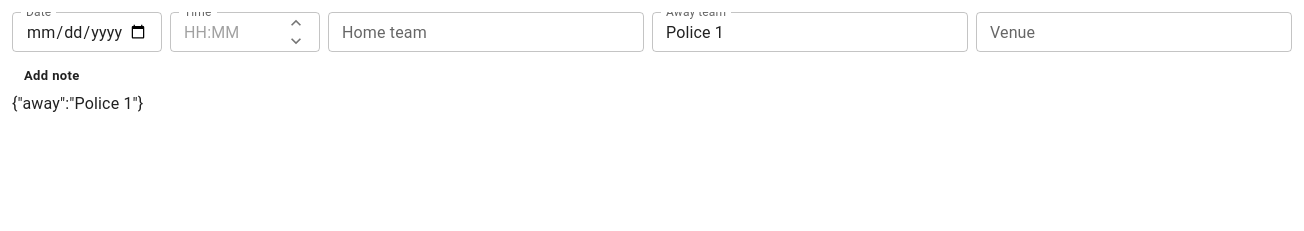
Test case: RowEditFields (spec 125) › lists the given options for a team, opens with the full list on an existing value, and narrows as the user types
Step 1. Focus the dropdown named "Away team, row 7" → (794, 32), box [658,18,929,46]
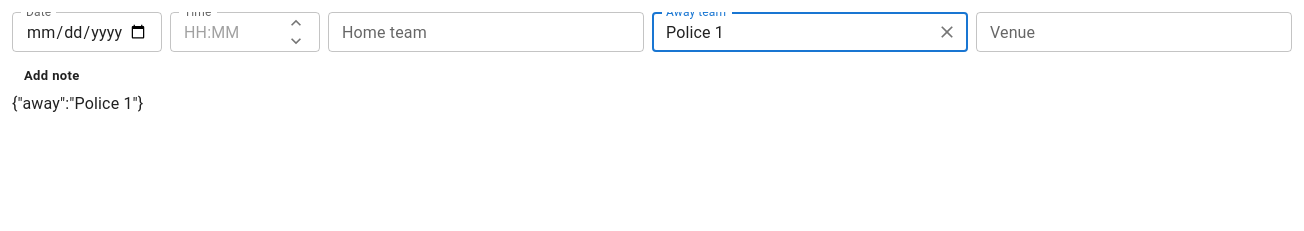
Step 2. Press ArrowDown in the dropdown named "Away team, row 7", box [658,18,929,46]
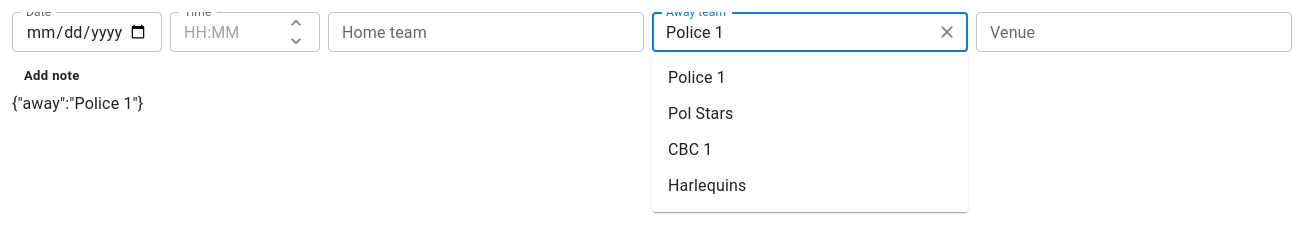
Expected: the options read "Police 1", "Pol Stars", "CBC 1", "Harlequins", in this order, [668,68,726,87]; [668,104,734,123]; [668,140,712,159]; [668,176,746,195]
Step 3. Replace the text in the dropdown named "Away team, row 7" with "pol" → (794, 32), box [658,18,929,46]
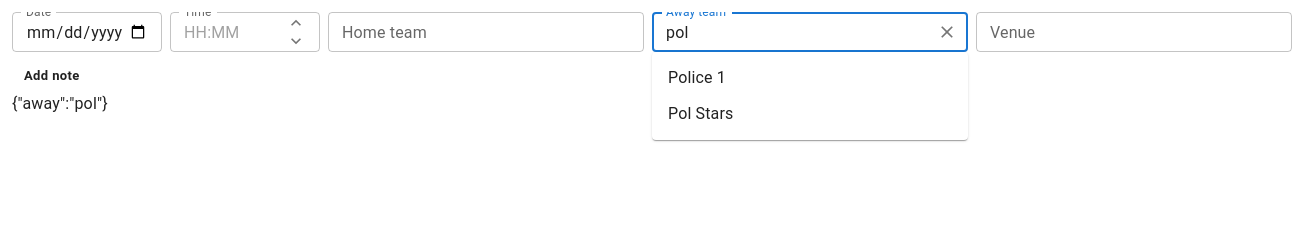
Expected: the options read "Police 1", "Pol Stars", in this order, [668,68,726,87]; [668,104,734,123]
Step 4. Replace the text in the dropdown named "Away team, row 7" with " stars" → (794, 32), box [658,18,929,46]
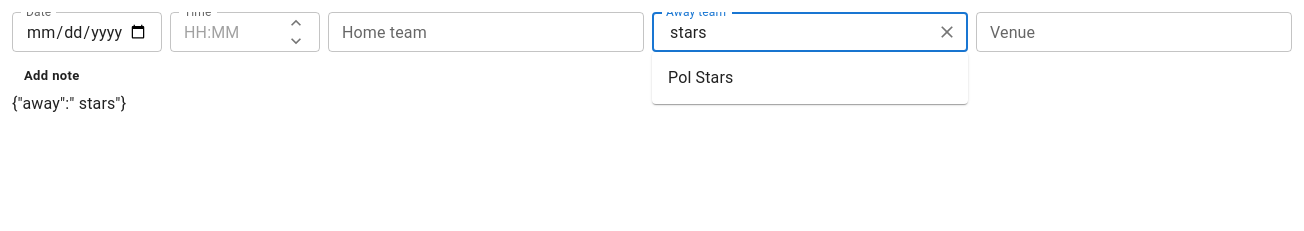
Expected: the options read "Pol Stars", in this order, [668,68,734,87]
